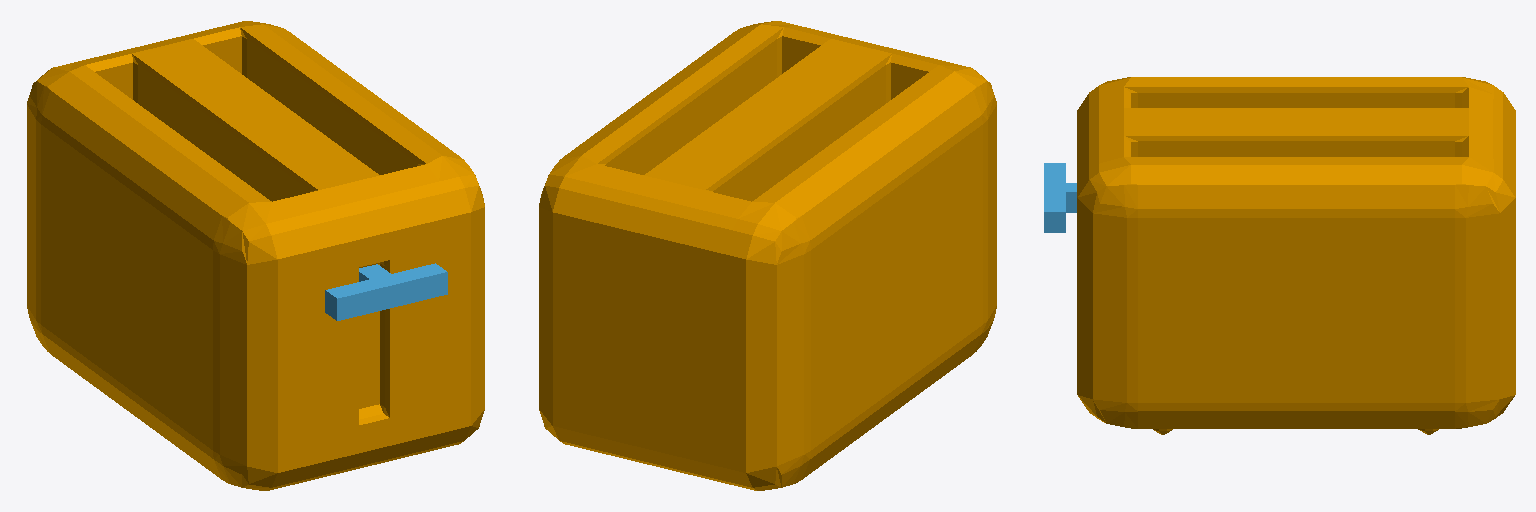
The robot description file, URDF, robot "Toaster":
<robot name="Toaster">
    <link name="corpus">
        <visual>
            <geometry>
                <mesh filename="meshes/corpus.obj"/>
            </geometry>
        </visual>
        <collision>
            <geometry>
                <mesh filename="meshes/corpus.obj"/>
            </geometry>
        </collision>
    </link>
    <link name="lever">
        <visual>
            <geometry>
                <mesh filename="meshes/lever.obj"/>
            </geometry>
        </visual>
        <collision>
            <geometry>
                <mesh filename="meshes/lever.obj"/>
            </geometry>
        </collision>
    </link>

    <joint name="lever_joint" type="prismatic">
        <origin xyz="0.0 0.0 0.0" rpy="0.0 0.0 0.0"/>
        <parent link="corpus"/>
        <child link="lever"/>
        <axis xyz="0.0 -1.0 0.0"/>
        <limit lower="0.0" upper="0.015" effort="100.0" velocity="100.0"/>
    </joint>
</robot>

--- Facts derived from the render (not from the file) ---
Views: 3 orthographic renders of the robot side by side, from view 1: azimuth 30°, elevation 25°; view 2: azimuth 150°, elevation 25°; view 3: azimuth 270°, elevation 25°.
Robot: Toaster — 2 links, 1 joints (1 prismatic); root link corpus; default pose: all joints at 0.
Visible links, largest first — view 1: corpus, lever; view 2: corpus; view 3: corpus, lever.
Boxes of the visible links, left/top/right/bottom form: corpus: left=27, top=21, right=484, bottom=490; lever: left=325, top=263, right=447, bottom=320; corpus: left=539, top=21, right=996, bottom=490; corpus: left=1077, top=77, right=1515, bottom=434; lever: left=1044, top=163, right=1076, bottom=232.
Size in the robot's own frame: 0.036 by 0.0616 by 0.0407 metres.
2 mesh visuals loaded from 2 distinct referenced files (2 OBJ).